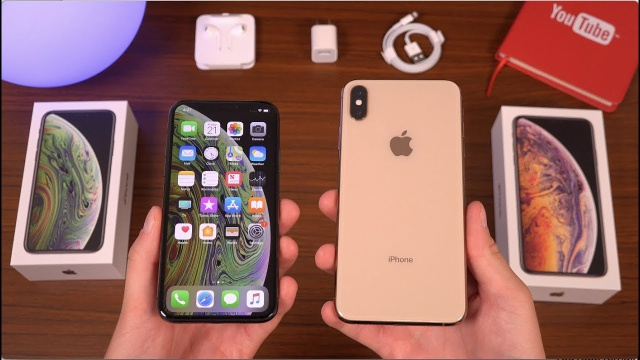apple: (382, 126, 420, 165)
